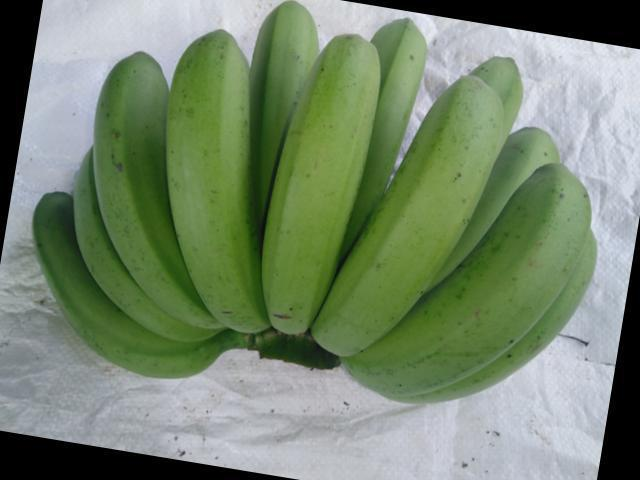unripe: (311, 72, 513, 368), (364, 160, 595, 395), (165, 22, 285, 370), (257, 18, 382, 337), (92, 36, 193, 347)
